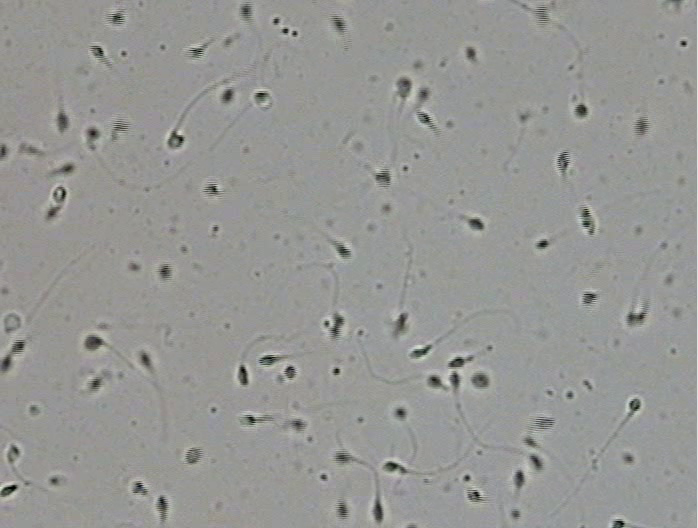S: (578, 205, 596, 236), (328, 313, 345, 339), (155, 495, 169, 521), (532, 416, 555, 431), (334, 241, 352, 260), (625, 311, 647, 326), (375, 169, 392, 188), (557, 150, 571, 173), (330, 14, 346, 34), (634, 116, 650, 136), (185, 447, 203, 464), (471, 372, 489, 389), (84, 335, 104, 350), (534, 5, 549, 25), (397, 78, 412, 98), (168, 131, 185, 148), (409, 345, 431, 358), (52, 185, 67, 203), (335, 501, 349, 520), (416, 110, 432, 126), (334, 450, 351, 465), (372, 500, 383, 523), (107, 11, 125, 25), (112, 119, 130, 133), (237, 365, 249, 386), (6, 444, 20, 462), (394, 313, 407, 332), (88, 45, 104, 60), (57, 113, 69, 132), (574, 103, 589, 118), (203, 182, 219, 196), (158, 263, 172, 279), (466, 489, 482, 503), (582, 292, 598, 306), (1, 484, 18, 497), (11, 339, 25, 354), (88, 377, 102, 392), (529, 455, 543, 470), (447, 357, 466, 368), (468, 218, 484, 231), (240, 3, 252, 20), (513, 470, 525, 487), (187, 47, 205, 58), (258, 355, 276, 366), (221, 87, 234, 102), (291, 418, 306, 431), (427, 375, 442, 388), (240, 415, 256, 427), (449, 371, 460, 388), (85, 127, 99, 140), (138, 353, 151, 367), (284, 366, 297, 380), (417, 88, 430, 102), (629, 398, 642, 412), (522, 436, 537, 448), (254, 91, 270, 102), (394, 407, 407, 420), (46, 207, 60, 219), (1, 355, 11, 371), (535, 239, 549, 250), (132, 481, 144, 493), (465, 46, 476, 59), (60, 163, 74, 173), (384, 461, 397, 471), (611, 519, 625, 528), (1, 143, 7, 160)
